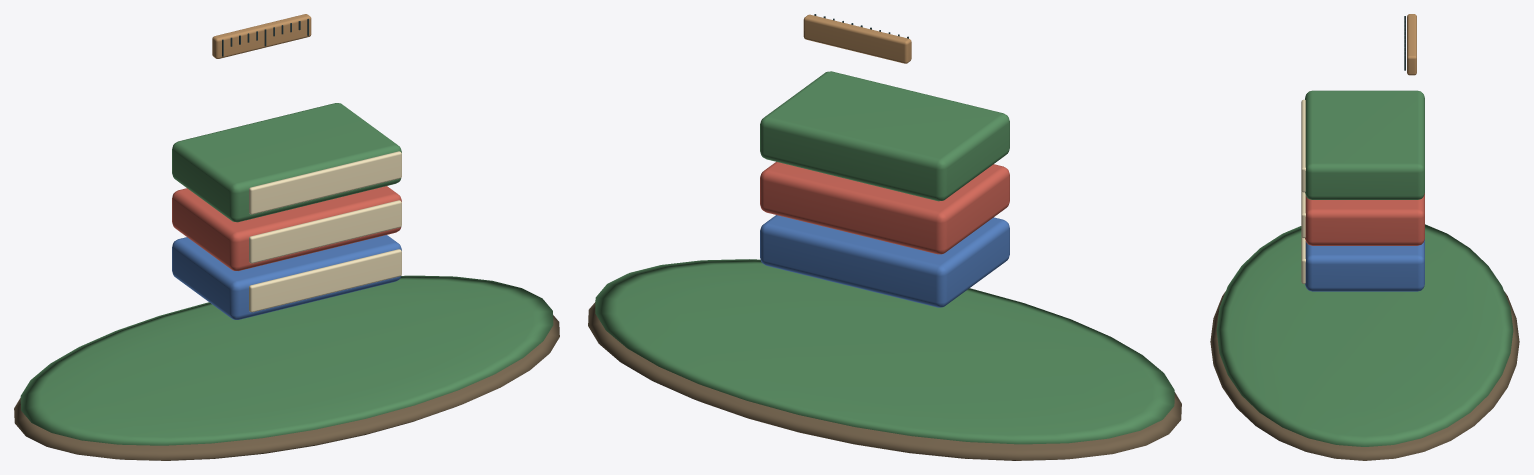
File: complete-third-generous-thick-stack.glb
3 renders of one model, left to right at view 1: azimuth 30°, elevation 25°; view 2: azimuth 150°, elevation 25°; view 3: azimuth 270°, elevation 25°, orthographic. The views are drawn at different scales.
Parts seen in each view (by area): view 1: complete-third-generous-thick-stack_surface_01, complete-third-generous-thick-stack_surface_03, complete-third-generous-thick-stack_surface_00, complete-third-generous-thick-stack_surface_04, complete-third-generous-thick-stack_surface_02, complete-third-generous-thick-stack_surface_05; view 2: complete-third-generous-thick-stack_surface_01, complete-third-generous-thick-stack_surface_02, complete-third-generous-thick-stack_surface_04, complete-third-generous-thick-stack_surface_00, complete-third-generous-thick-stack_surface_05; view 3: complete-third-generous-thick-stack_surface_01, complete-third-generous-thick-stack_surface_00, complete-third-generous-thick-stack_surface_02, complete-third-generous-thick-stack_surface_04, complete-third-generous-thick-stack_surface_03, complete-third-generous-thick-stack_surface_05.
Boxes of the visible parts, box(x1,y1,x2,y2) form: complete-third-generous-thick-stack_surface_01: box(20, 103, 553, 445); complete-third-generous-thick-stack_surface_03: box(249, 151, 401, 312); complete-third-generous-thick-stack_surface_00: box(14, 315, 559, 460); complete-third-generous-thick-stack_surface_04: box(172, 186, 401, 270); complete-third-generous-thick-stack_surface_02: box(172, 235, 401, 319); complete-third-generous-thick-stack_surface_05: box(212, 14, 311, 58); complete-third-generous-thick-stack_surface_01: box(595, 71, 1174, 444); complete-third-generous-thick-stack_surface_02: box(760, 215, 1009, 307); complete-third-generous-thick-stack_surface_04: box(760, 161, 1009, 254); complete-third-generous-thick-stack_surface_00: box(588, 302, 1181, 460); complete-third-generous-thick-stack_surface_05: box(803, 14, 911, 63); complete-third-generous-thick-stack_surface_01: box(1216, 90, 1513, 446); complete-third-generous-thick-stack_surface_00: box(1210, 291, 1519, 460); complete-third-generous-thick-stack_surface_02: box(1305, 239, 1424, 291); complete-third-generous-thick-stack_surface_04: box(1305, 193, 1424, 245); complete-third-generous-thick-stack_surface_03: box(1301, 99, 1305, 283); complete-third-generous-thick-stack_surface_05: box(1407, 14, 1416, 75).
Bounding box in the file's own units: 4.56 × 2.87 × 2.5.
